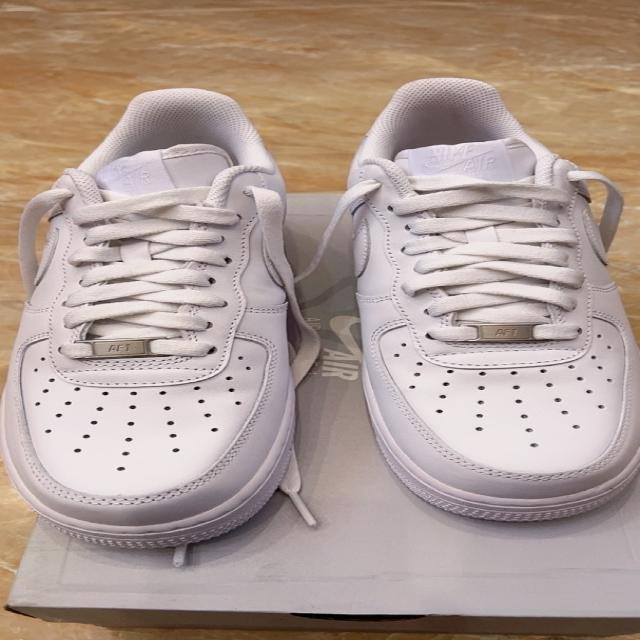nike original air force: (0, 87, 326, 550), (324, 76, 640, 521)
